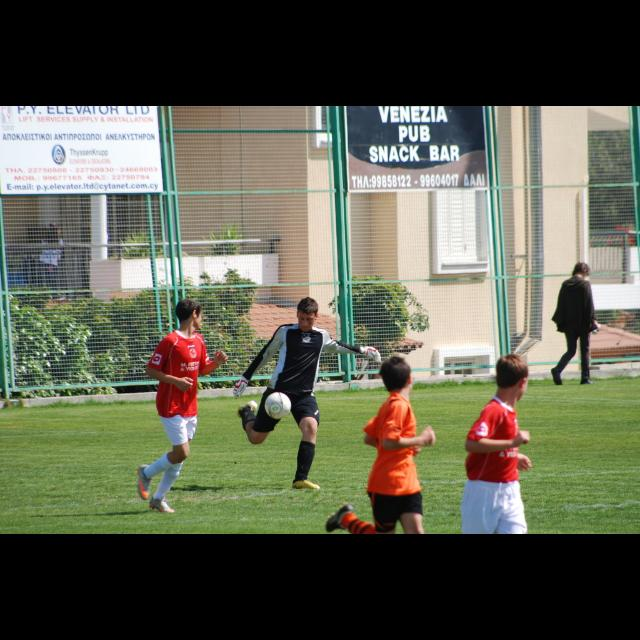Football: (266, 389, 290, 419)
